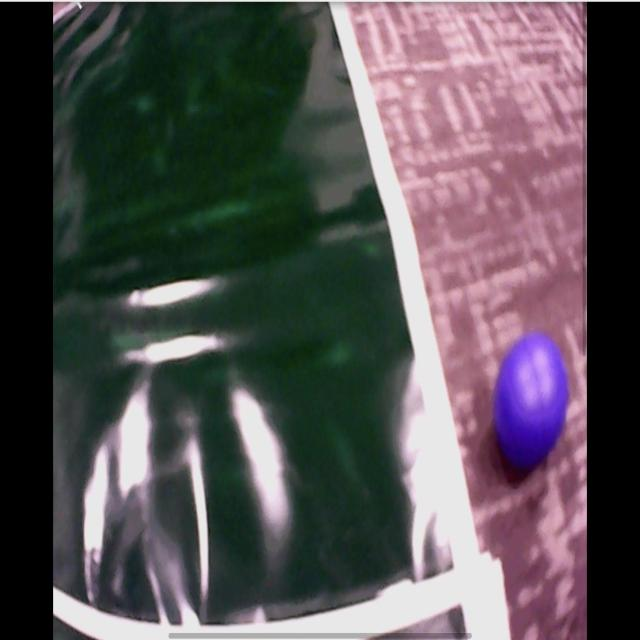ball: (493, 338, 569, 460)
